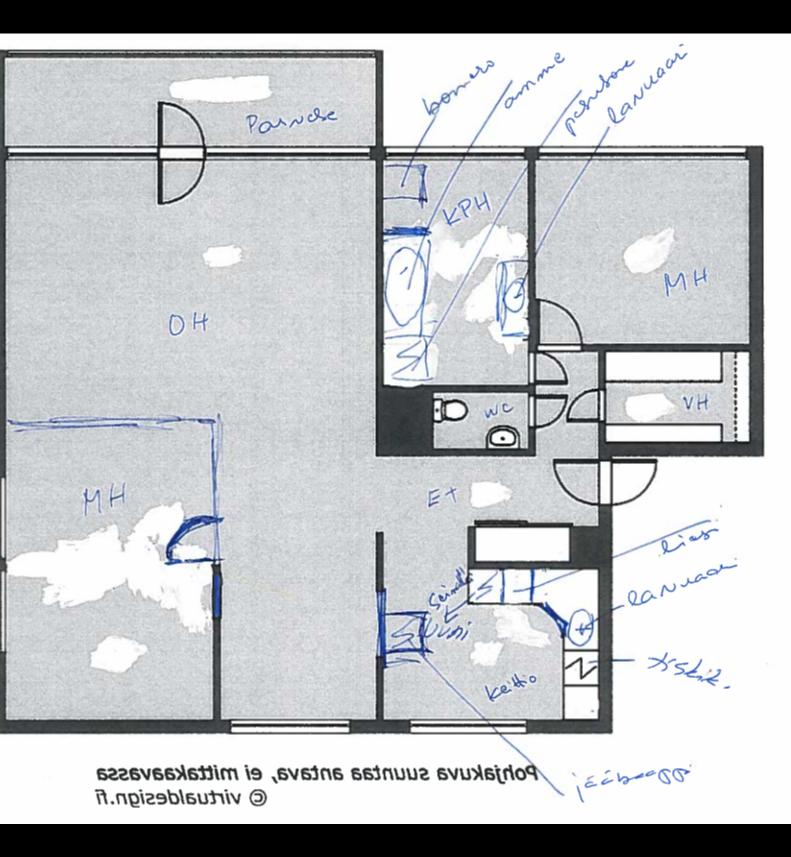bathroom: (431, 391, 529, 448)
door: (158, 511, 224, 573), (550, 455, 610, 512), (154, 99, 204, 166), (597, 456, 658, 508), (151, 147, 202, 209), (534, 294, 584, 355), (563, 383, 609, 424), (526, 391, 569, 428), (526, 352, 570, 387)
perimeter: (0, 144, 762, 733)
window: (203, 132, 378, 165), (530, 138, 752, 164), (222, 708, 359, 738), (0, 137, 161, 162), (400, 712, 534, 740), (380, 136, 534, 160), (0, 562, 17, 657), (0, 469, 13, 567)
